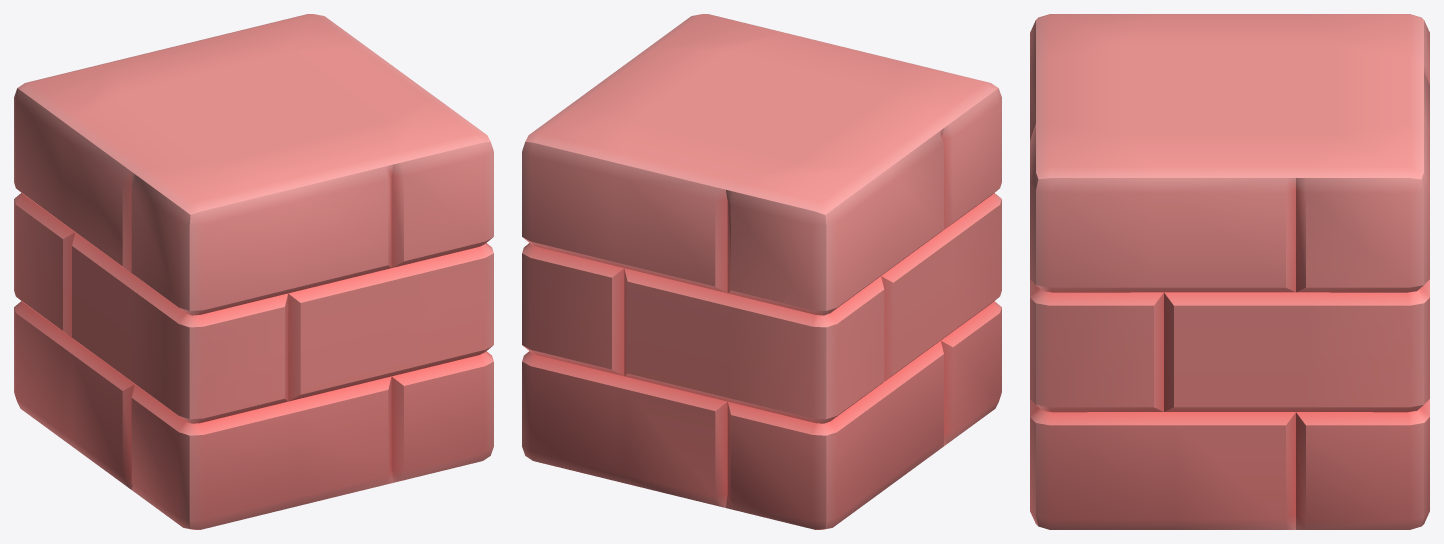
Rendered from bricksAMidified.fbx.
3 views of the same model, side by side, from view 1: azimuth 30°, elevation 25°; view 2: azimuth 150°, elevation 25°; view 3: azimuth 270°, elevation 25° (orthographic). The views are drawn at different scales.
Parts seen in each view (by area): view 1: bricks_A; view 2: bricks_A; view 3: bricks_A.
Part boxes in pixels (x1,y1,x2,y2): bricks_A: (14, 14, 493, 529); bricks_A: (522, 14, 1001, 529); bricks_A: (1030, 14, 1429, 529).
Size of the model in its own units: 200 by 200 by 200.
